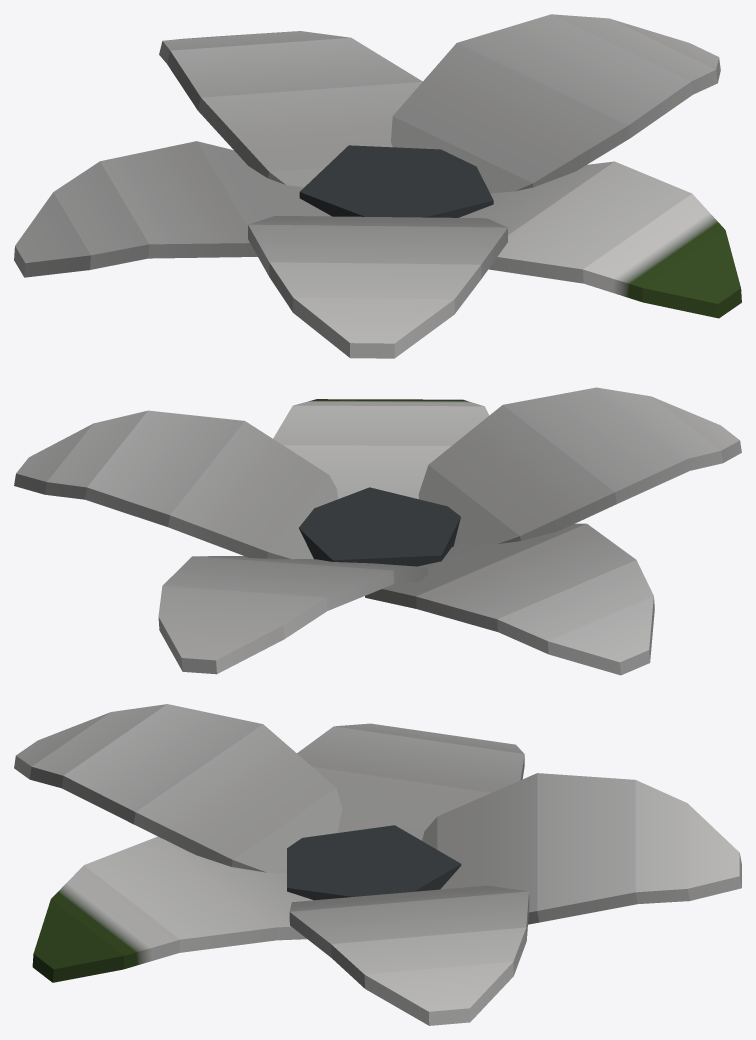
Rendered from Flower_11.fbx.
3 views of the same model, one above another, from view 1: azimuth 30°, elevation 25°; view 2: azimuth 150°, elevation 25°; view 3: azimuth 270°, elevation 25° (orthographic). The views are drawn at different scales.
Parts seen in each view (by area): view 1: Flower_11; view 2: Flower_11; view 3: Flower_11.
Boxes of the visible parts, box(x1,y1,x2,y2) form: Flower_11: box(14, 14, 741, 358); Flower_11: box(14, 387, 741, 675); Flower_11: box(14, 704, 741, 1025).
Bounding box in the file's own units: 0.2912 × 0.0478 × 0.2824.
